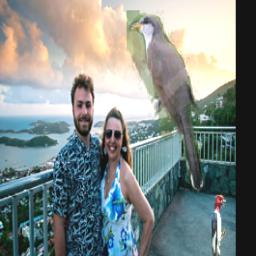Cuckoo: (128, 11, 206, 194)
Woodpecker: (211, 196, 226, 256)
